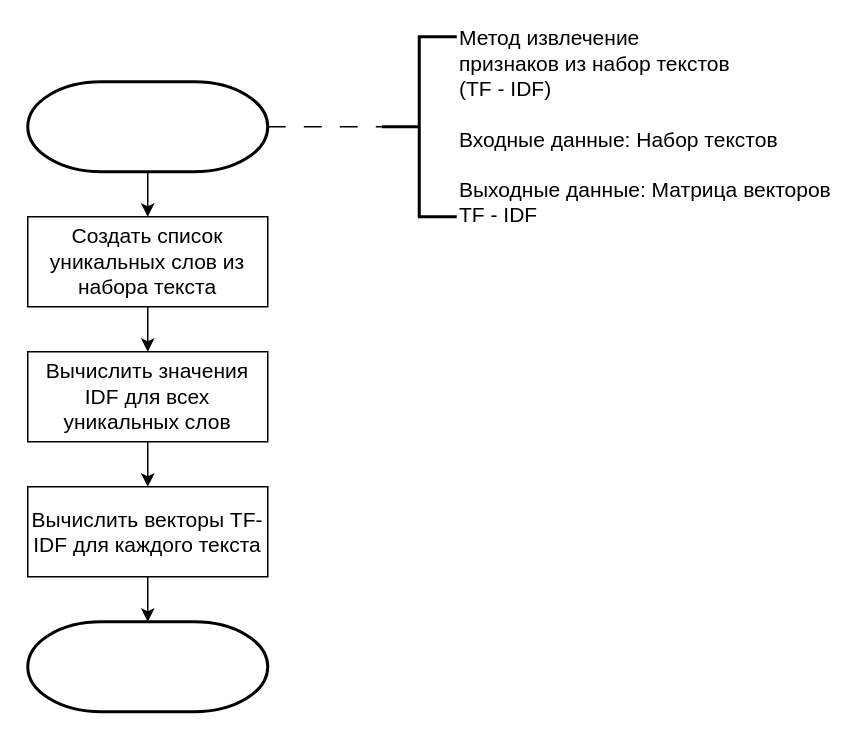
Image size: 863x738. Some labels were removed from this diagram. The centre of each missing label's shape, as x and y in pixels:
"Конец" goes at point 147,666.
"Начало" goes at point 147,126.
